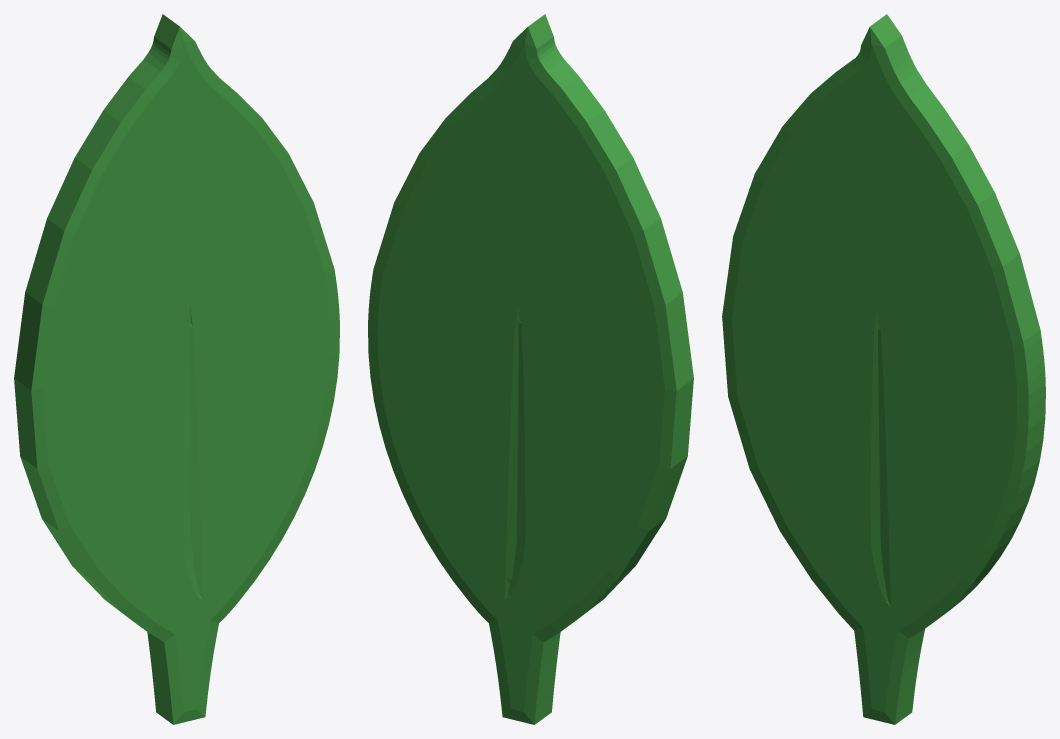
Rendered from mongodb-extruded.glb.
3 renders of one model, left to right at view 1: azimuth 30°, elevation 25°; view 2: azimuth 150°, elevation 25°; view 3: azimuth 330°, elevation 25°, orthographic.
Bounding box in the file's own units: 0.7417 × 1.6 × 0.08.
